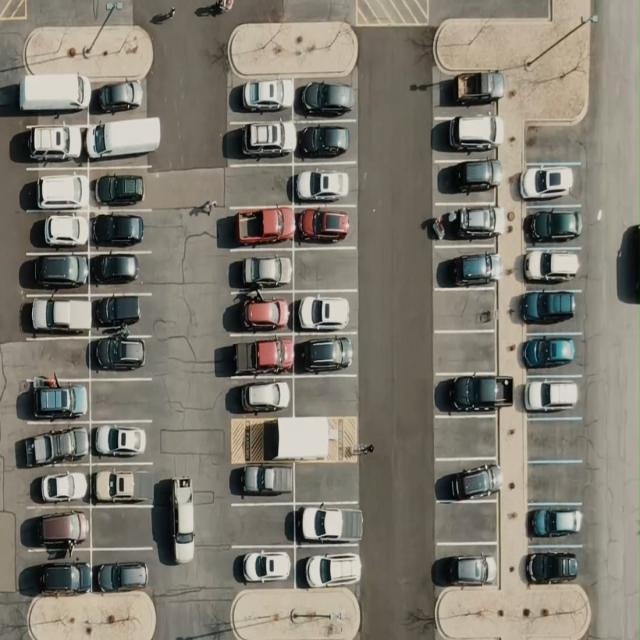space-empty: (434, 286, 499, 334), (434, 328, 501, 374), (226, 502, 294, 547), (225, 164, 293, 208), (22, 338, 90, 381), (88, 378, 155, 421), (293, 246, 357, 291), (294, 374, 358, 419), (435, 416, 500, 460), (434, 502, 500, 545), (522, 418, 588, 461), (90, 507, 154, 550), (293, 462, 358, 503), (526, 462, 585, 502), (527, 124, 580, 163)
space-occupied: (86, 114, 160, 166), (431, 200, 504, 247), (434, 370, 505, 418), (18, 116, 86, 166), (21, 288, 90, 337), (294, 498, 360, 548), (23, 551, 92, 598), (20, 78, 89, 124), (293, 287, 357, 336), (226, 372, 294, 418), (225, 205, 293, 250), (292, 160, 357, 207), (434, 544, 500, 590), (433, 112, 502, 156), (433, 245, 500, 290), (517, 245, 584, 290), (518, 159, 582, 206), (28, 372, 88, 422), (225, 248, 293, 292), (227, 120, 295, 164), (227, 544, 295, 588), (90, 461, 156, 506), (434, 65, 500, 110), (23, 164, 87, 210), (27, 462, 92, 507), (89, 164, 154, 209), (434, 158, 502, 201), (293, 204, 357, 249), (522, 332, 586, 377), (436, 458, 500, 503), (229, 76, 294, 120), (517, 288, 583, 331), (89, 418, 152, 463), (298, 548, 364, 590), (92, 550, 152, 596), (19, 257, 88, 297), (293, 334, 357, 377), (520, 374, 584, 417), (26, 508, 91, 550), (89, 210, 154, 252), (294, 78, 357, 121), (522, 206, 585, 249), (524, 501, 584, 546), (90, 333, 150, 378), (88, 250, 152, 292), (18, 207, 86, 246), (296, 120, 356, 163), (232, 461, 292, 504), (228, 292, 292, 332), (92, 294, 152, 335), (26, 426, 90, 464), (527, 546, 585, 586), (236, 334, 295, 371), (90, 80, 148, 114)
